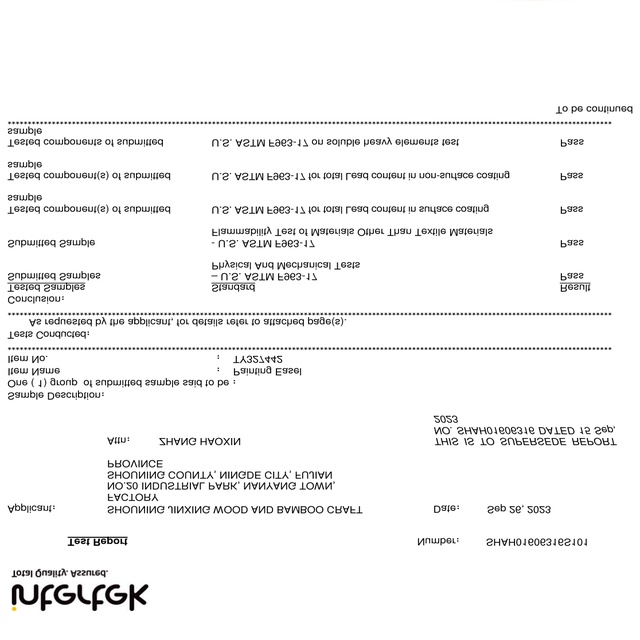intertek: (7, 579, 152, 615)
